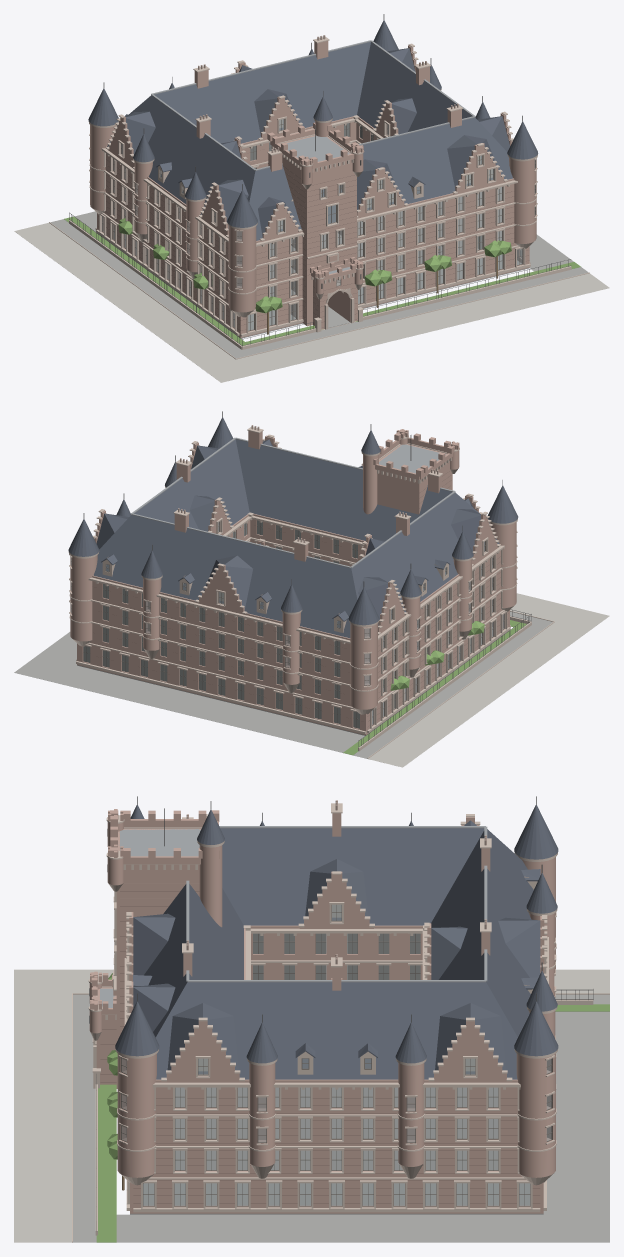
Rendered from clay-baronial-railway-hotel-clay-v003.glb.
The picture shows the model from 3 angles, top to bottom: view 1: azimuth 30°, elevation 25°; view 2: azimuth 150°, elevation 25°; view 3: azimuth 270°, elevation 25°; orthographic projection. The views are drawn at different scales.
Parts seen in each view (by area): view 1: CLAY_WALL, CLAY_ROOF, CLAY_STONE, CLAY_CONCRETE, CLAY_FOUNDATION, CLAY_GLASS, CLAY_PLANTING, CLAY_TRIM, CLAY_LEAD, CLAY_JOINT, CLAY_FLOOR, CLAY_HARDWARE; view 2: CLAY_WALL, CLAY_ROOF, CLAY_STONE, CLAY_FOUNDATION, CLAY_CONCRETE, CLAY_GLASS, CLAY_TRIM, CLAY_LEAD, CLAY_PLANTING, CLAY_HARDWARE; view 3: CLAY_ROOF, CLAY_WALL, CLAY_FOUNDATION, CLAY_STONE, CLAY_CONCRETE, CLAY_GLASS, CLAY_TRIM, CLAY_FLOOR, CLAY_LEAD, CLAY_PLANTING, CLAY_JOINT.
Boxes of the visible parts, box(x1,y1,x2,y2) form: CLAY_WALL: box(90, 41, 536, 337); CLAY_ROOF: box(88, 20, 538, 240); CLAY_STONE: box(49, 37, 589, 359); CLAY_CONCRETE: box(14, 222, 609, 382); CLAY_FOUNDATION: box(50, 211, 588, 358); CLAY_GLASS: box(102, 119, 535, 330); CLAY_PLANTING: box(64, 216, 580, 345); CLAY_TRIM: box(102, 119, 535, 331); CLAY_LEAD: box(151, 40, 475, 274); CLAY_JOINT: box(98, 159, 529, 330); CLAY_FLOOR: box(114, 169, 501, 296); CLAY_HARDWARE: box(69, 14, 570, 346); CLAY_WALL: box(70, 429, 516, 735); CLAY_ROOF: box(68, 417, 518, 638); CLAY_STONE: box(68, 426, 554, 758); CLAY_FOUNDATION: box(14, 611, 552, 758); CLAY_CONCRETE: box(368, 593, 609, 767); CLAY_GLASS: box(71, 520, 504, 728); CLAY_TRIM: box(70, 520, 504, 728); CLAY_LEAD: box(131, 437, 455, 568); CLAY_PLANTING: box(343, 620, 526, 755); CLAY_HARDWARE: box(83, 411, 531, 747); CLAY_ROOF: box(115, 805, 558, 1079); CLAY_WALL: box(89, 809, 555, 1213); CLAY_FOUNDATION: box(73, 994, 609, 1242); CLAY_STONE: box(72, 803, 609, 1242); CLAY_CONCRETE: box(14, 969, 609, 1242); CLAY_GLASS: box(122, 904, 551, 1205); CLAY_TRIM: box(121, 905, 552, 1206); CLAY_FLOOR: box(175, 934, 498, 1169); CLAY_LEAD: box(98, 826, 487, 1007); CLAY_PLANTING: box(96, 973, 609, 1242); CLAY_JOINT: box(100, 883, 539, 1203).
Size of the model in its own units: 78 by 38.4 by 72.
